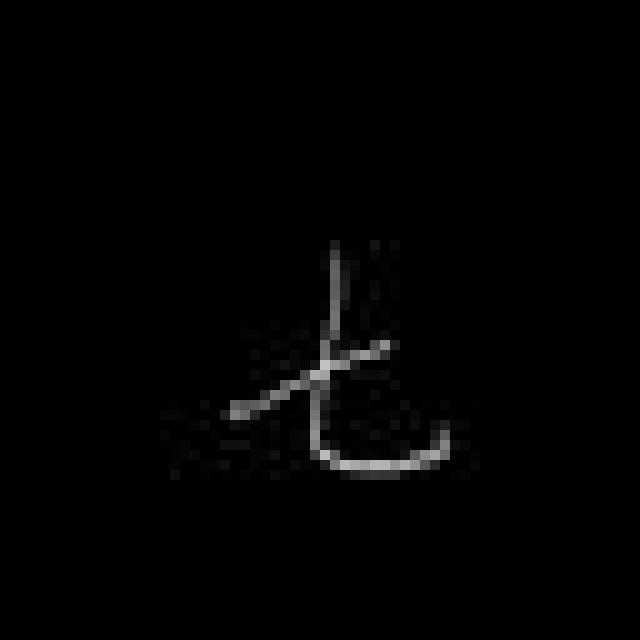7 -seven-: (226, 239, 457, 480)
